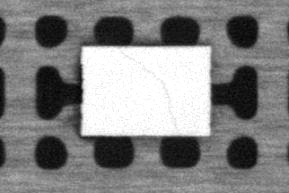DIE_CRACK: (121, 51, 180, 129)
